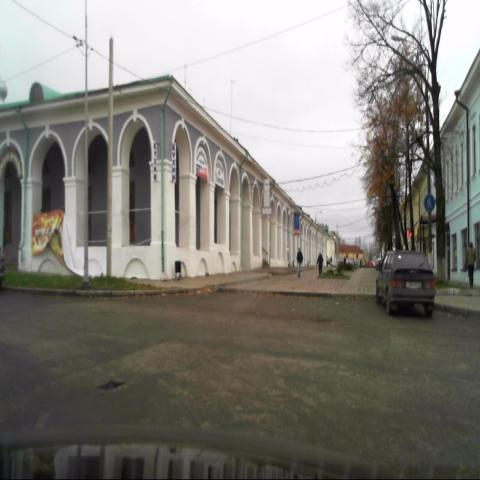4_5: (424, 193, 436, 214)
